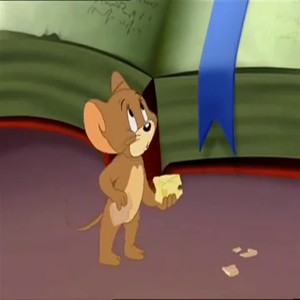Jerry: (72, 69, 158, 267)
